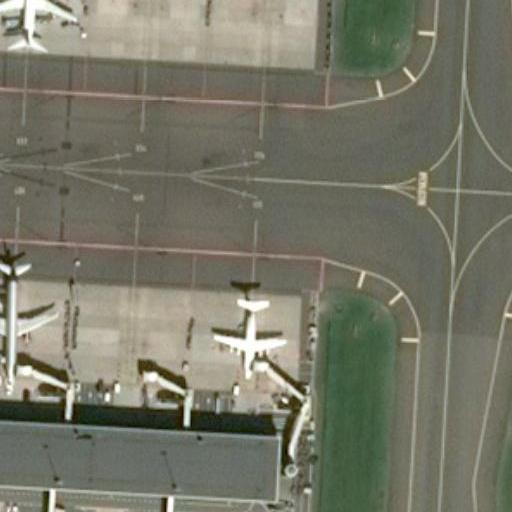Aircraft: (215, 287, 294, 384), (0, 246, 57, 374), (0, 0, 79, 59)
